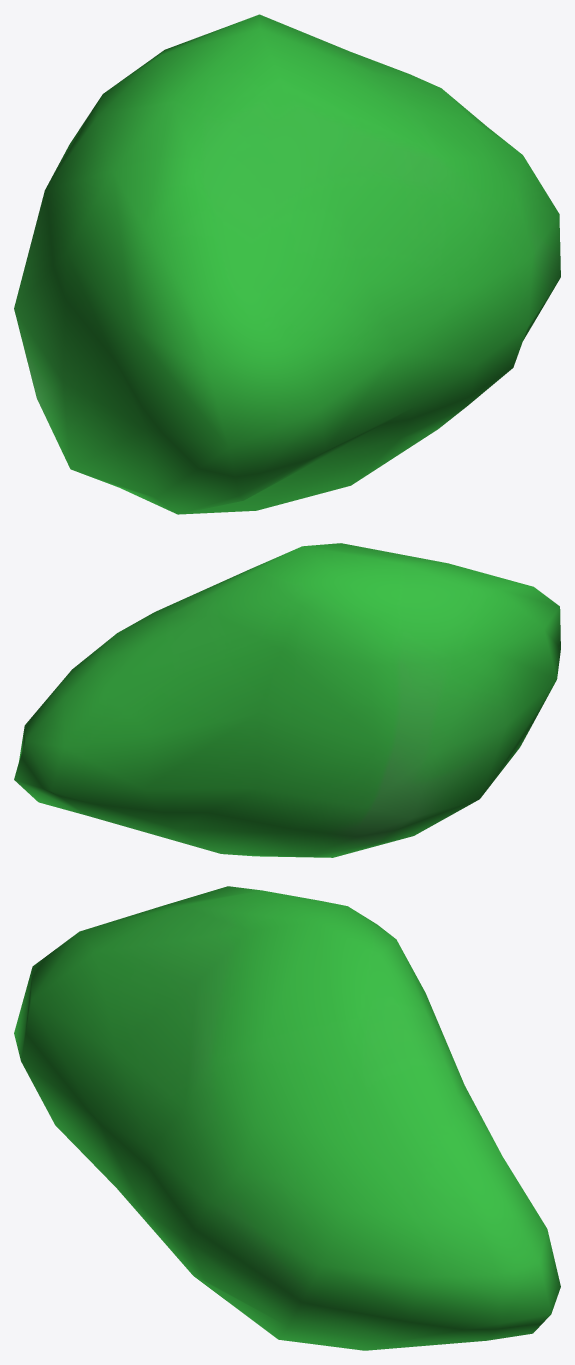
The model's file is Tree Top 3.fbx.
3 renders of one model, top to bottom at view 1: azimuth 30°, elevation 25°; view 2: azimuth 150°, elevation 25°; view 3: azimuth 270°, elevation 25°, orthographic. The views are drawn at different scales.
Parts seen in each view (by area): view 1: Group56277; view 2: Group56277; view 3: Group56277.
Part boxes in pixels (bbox=[...]): Group56277: bbox=[14, 14, 560, 514]; Group56277: bbox=[14, 543, 560, 857]; Group56277: bbox=[14, 886, 560, 1350].
Bounding box in the file's own units: 1.44 × 1.13 × 1.42.
1 material, 1 textured.
